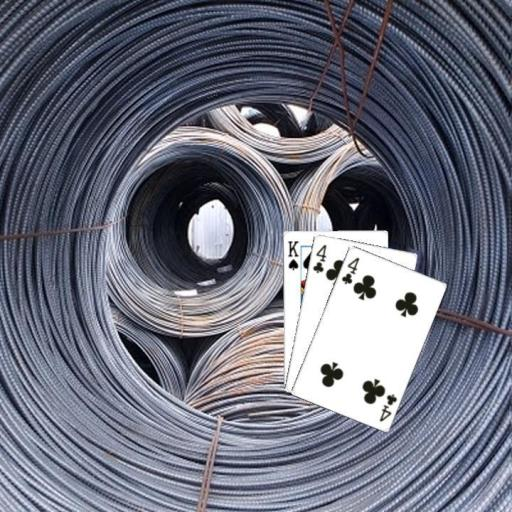4C: (376, 391, 398, 423), (339, 254, 361, 285), (309, 241, 327, 275)
KS: (285, 238, 300, 272)
